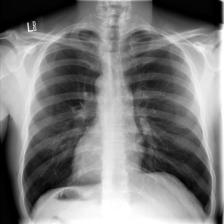normal: (18, 25, 214, 223)
